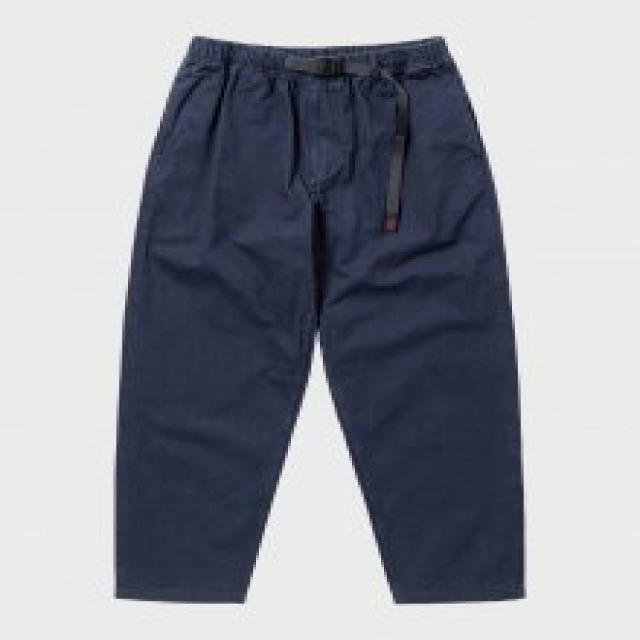long-pants: (115, 32, 531, 609)
